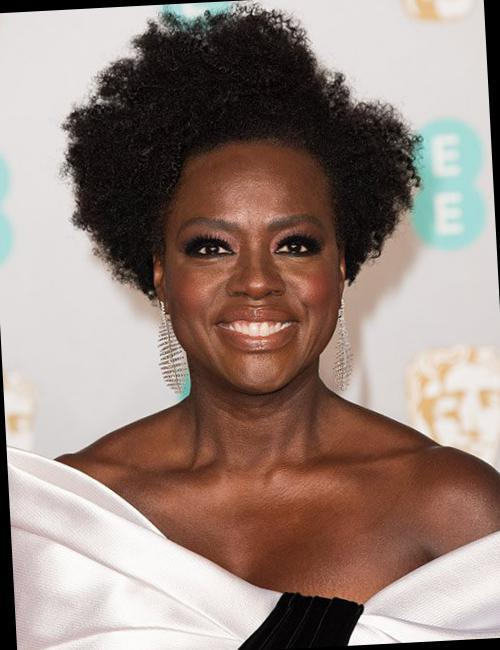Sober: (172, 160, 337, 373)
